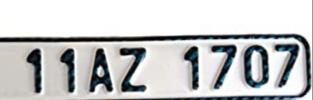0: (241, 44, 271, 90)
1: (179, 41, 203, 95), (23, 44, 46, 96), (58, 45, 81, 96)
7: (270, 39, 301, 91), (209, 40, 238, 92)
A: (88, 46, 117, 100)
Z: (117, 44, 150, 97)
